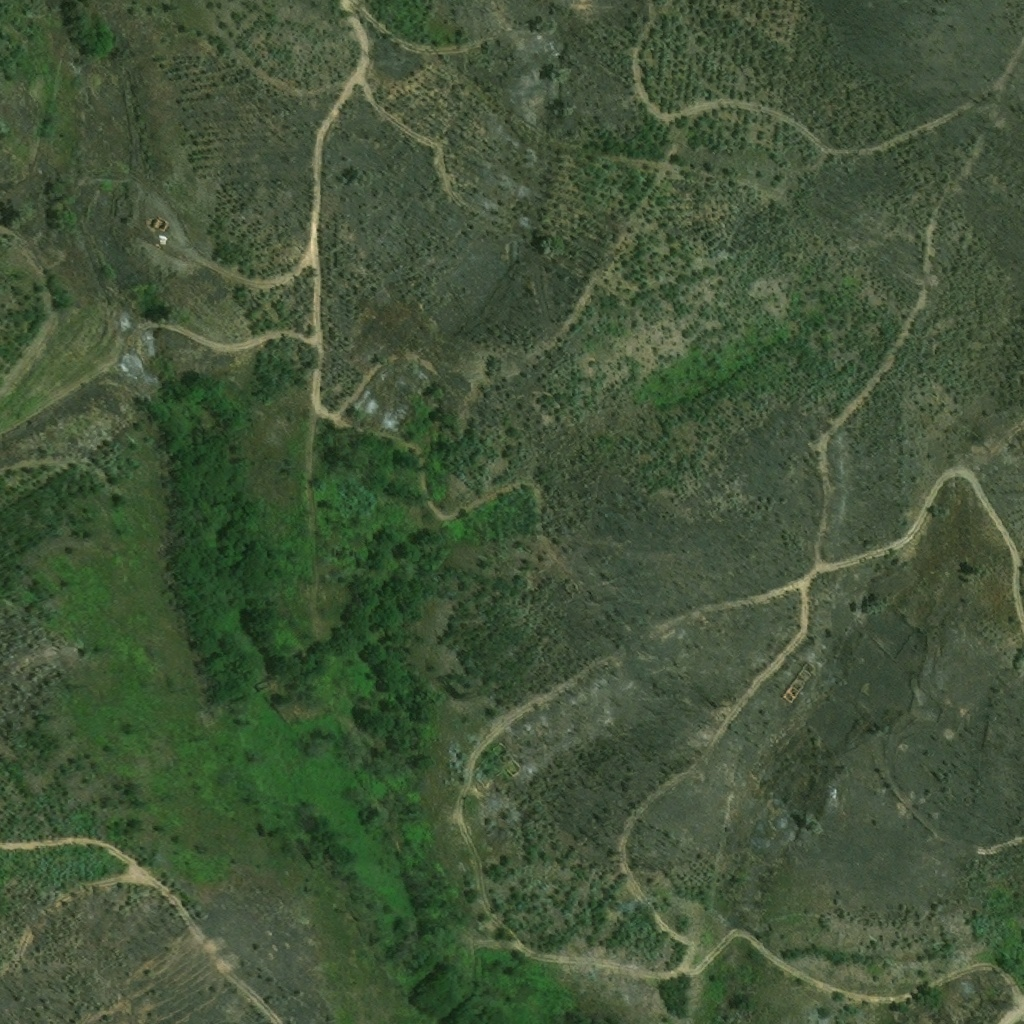3 destroyed: (150, 215, 170, 233)
